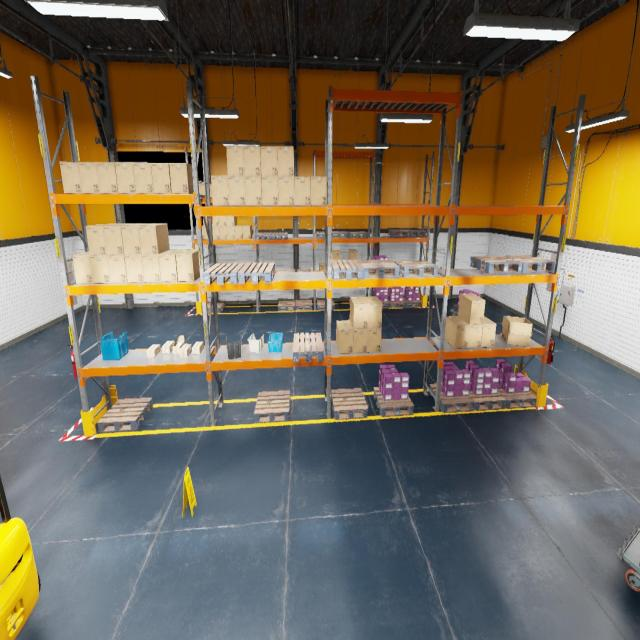box: (103, 223, 135, 255), (138, 224, 170, 254), (502, 316, 532, 347), (121, 223, 151, 254), (86, 224, 115, 255), (158, 250, 185, 282), (458, 293, 485, 324), (458, 316, 483, 348), (169, 163, 194, 194), (445, 316, 469, 348), (96, 162, 120, 194), (176, 250, 200, 282), (59, 162, 82, 193), (115, 162, 137, 194), (78, 162, 100, 193), (151, 162, 172, 194), (133, 162, 154, 194), (72, 252, 93, 284), (350, 296, 368, 329), (336, 320, 353, 354), (364, 296, 382, 328), (141, 254, 161, 282), (124, 254, 144, 282), (90, 256, 110, 284), (243, 145, 261, 176), (350, 322, 368, 352), (260, 146, 278, 176), (226, 146, 244, 176), (244, 176, 262, 206), (211, 176, 229, 206), (107, 255, 127, 282), (277, 146, 294, 176), (228, 176, 245, 206), (294, 176, 310, 206), (262, 176, 278, 206), (481, 316, 496, 347), (310, 176, 326, 205), (278, 177, 294, 206), (367, 328, 381, 352), (172, 335, 184, 354), (179, 344, 192, 357), (146, 344, 160, 356), (192, 342, 204, 354), (162, 341, 174, 353), (242, 224, 252, 238), (235, 225, 243, 239), (196, 226, 204, 240), (226, 216, 237, 226), (227, 226, 235, 239), (219, 226, 227, 239), (349, 250, 357, 262), (332, 250, 340, 262), (212, 227, 219, 240), (218, 216, 226, 226), (212, 216, 219, 226), (203, 227, 208, 240), (319, 262, 325, 271), (203, 216, 207, 226), (201, 184, 205, 194), (198, 184, 202, 194), (209, 184, 212, 197), (332, 250, 334, 260), (338, 264, 340, 269)
forklift: (0, 473, 40, 639)
pallets: (97, 398, 153, 432), (430, 384, 474, 412), (373, 387, 414, 417), (331, 388, 368, 420), (254, 391, 290, 423), (203, 262, 245, 284), (502, 255, 556, 272), (498, 385, 537, 408), (470, 256, 522, 273), (293, 333, 323, 362), (469, 389, 506, 411), (238, 262, 275, 283), (358, 260, 400, 278), (395, 260, 438, 277), (332, 260, 364, 280), (207, 302, 225, 313), (403, 297, 422, 307), (317, 299, 334, 310), (278, 300, 295, 310), (295, 300, 312, 310), (388, 298, 405, 308), (406, 229, 427, 236), (256, 232, 273, 240), (388, 230, 410, 236), (348, 232, 368, 238), (332, 231, 348, 238), (272, 232, 288, 239), (316, 231, 325, 238), (381, 302, 389, 308), (454, 304, 458, 312), (349, 299, 350, 305), (639, 562, 640, 566)
